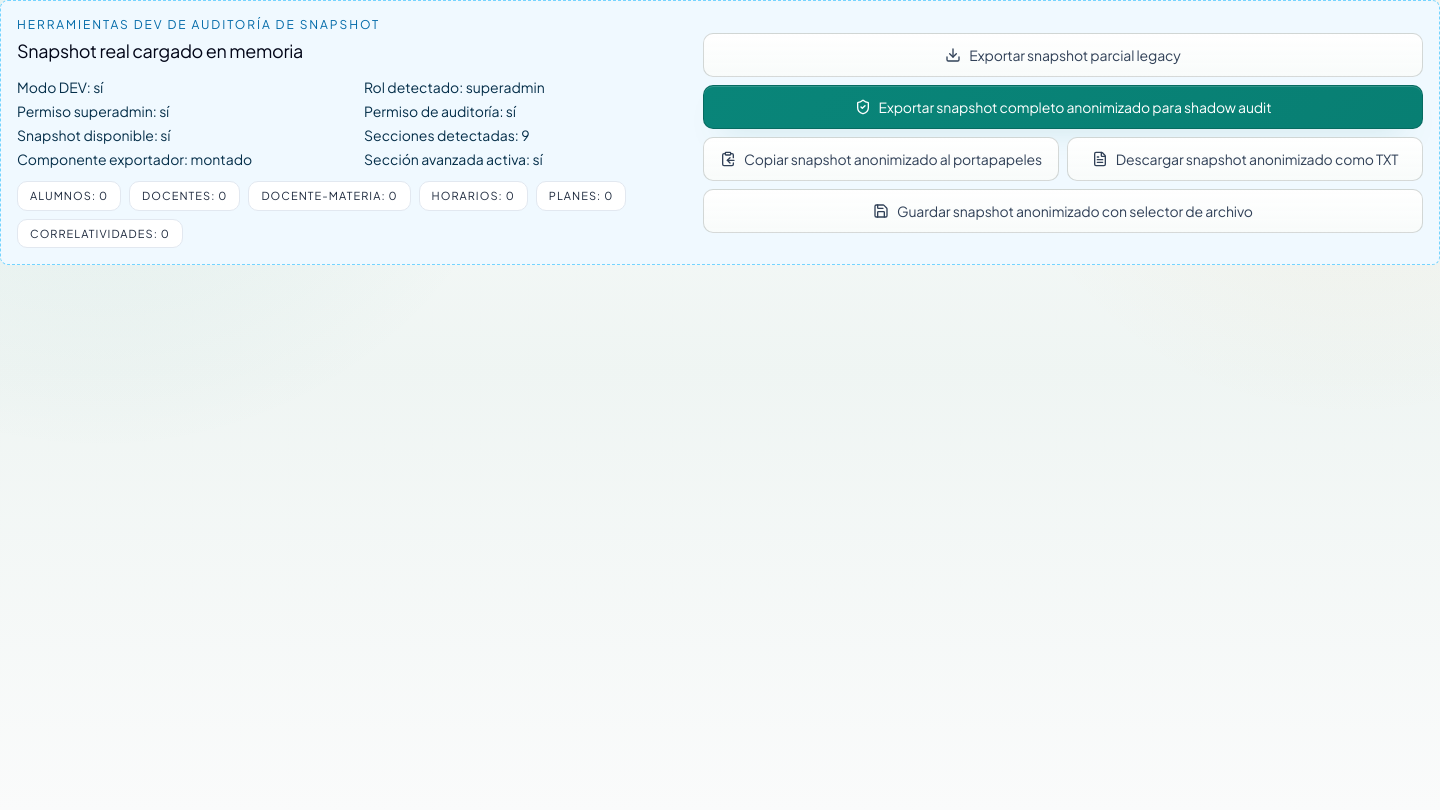
Test: DevAuditSnapshotExport › usa el selector de archivo cuando el navegador lo soporta
Click the button "Guardar snapshot anonimizado con selector de archivo" at (1063, 211), box [703, 189, 1423, 233]
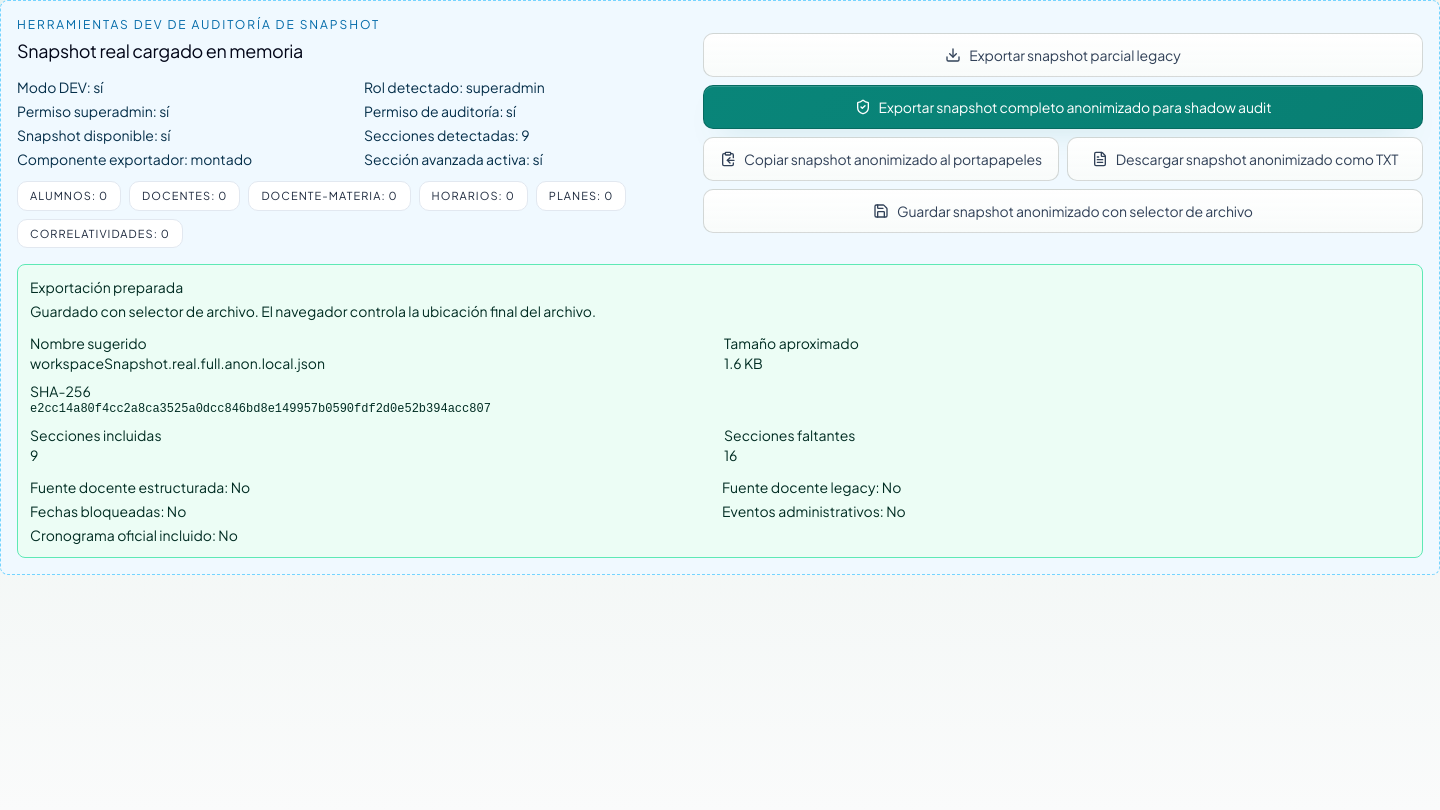
Now the text "Guardado con selector de archivo. El navegador controla la ubicación final del archivo." is shown, box [30, 302, 596, 320]
